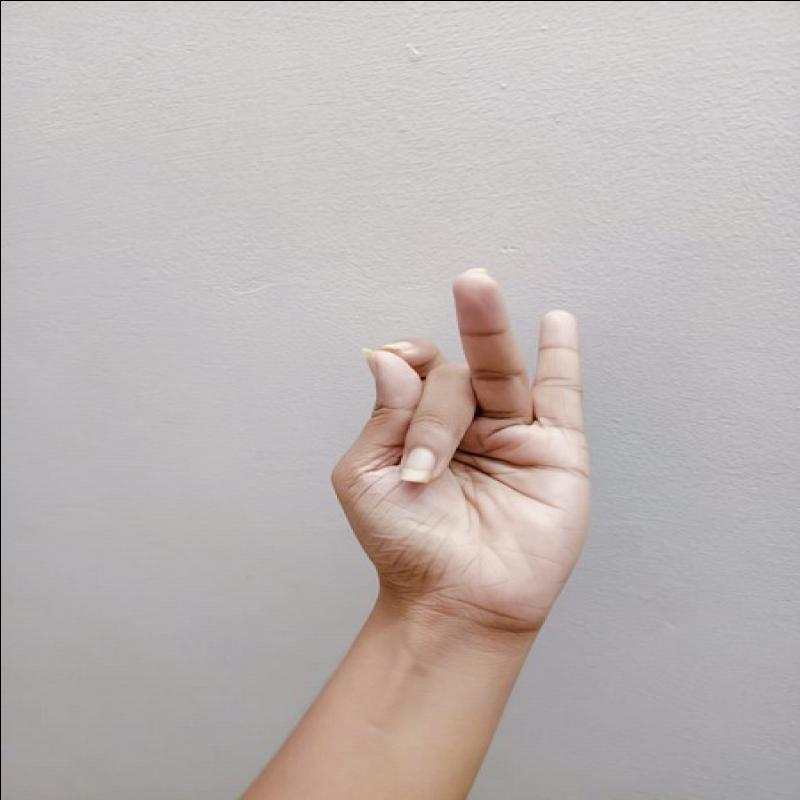Katakam: (292, 260, 642, 645)
